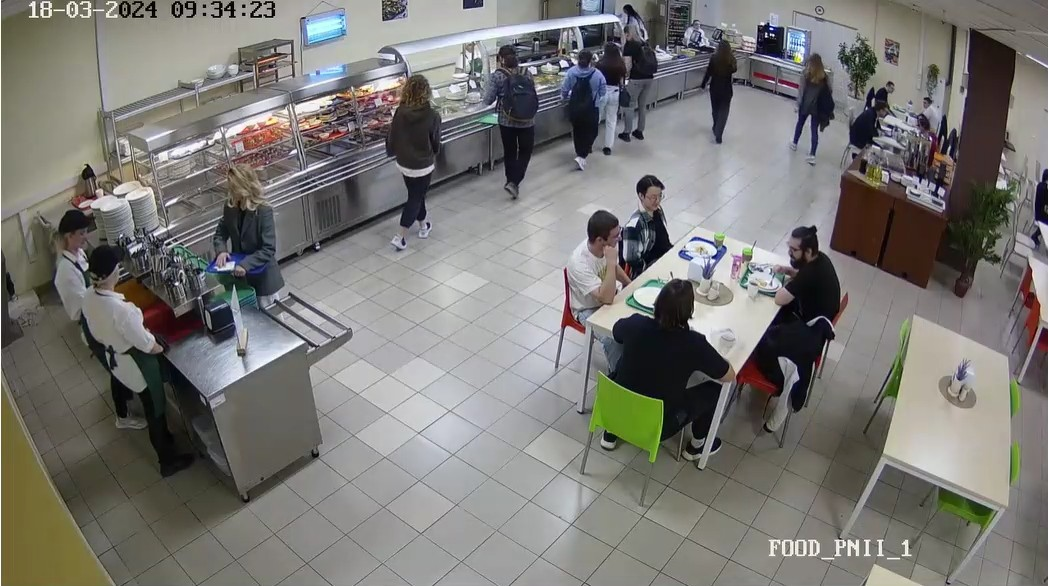Ne_v_Ocheredi: (786, 52, 839, 158), (700, 38, 742, 143), (1026, 162, 1048, 250)
Personal: (76, 243, 184, 476), (45, 205, 147, 440), (452, 35, 483, 73), (557, 16, 589, 51), (679, 10, 707, 45), (615, 1, 645, 28)
Vybiraet: (200, 159, 293, 314), (373, 75, 438, 252), (480, 39, 536, 205), (616, 26, 658, 137), (564, 51, 604, 165), (597, 40, 627, 163)
Za_Stolom: (578, 263, 731, 476), (552, 198, 632, 361), (769, 224, 839, 318), (623, 176, 678, 251), (846, 96, 886, 153), (914, 120, 945, 157), (876, 76, 899, 109), (917, 88, 939, 120)
